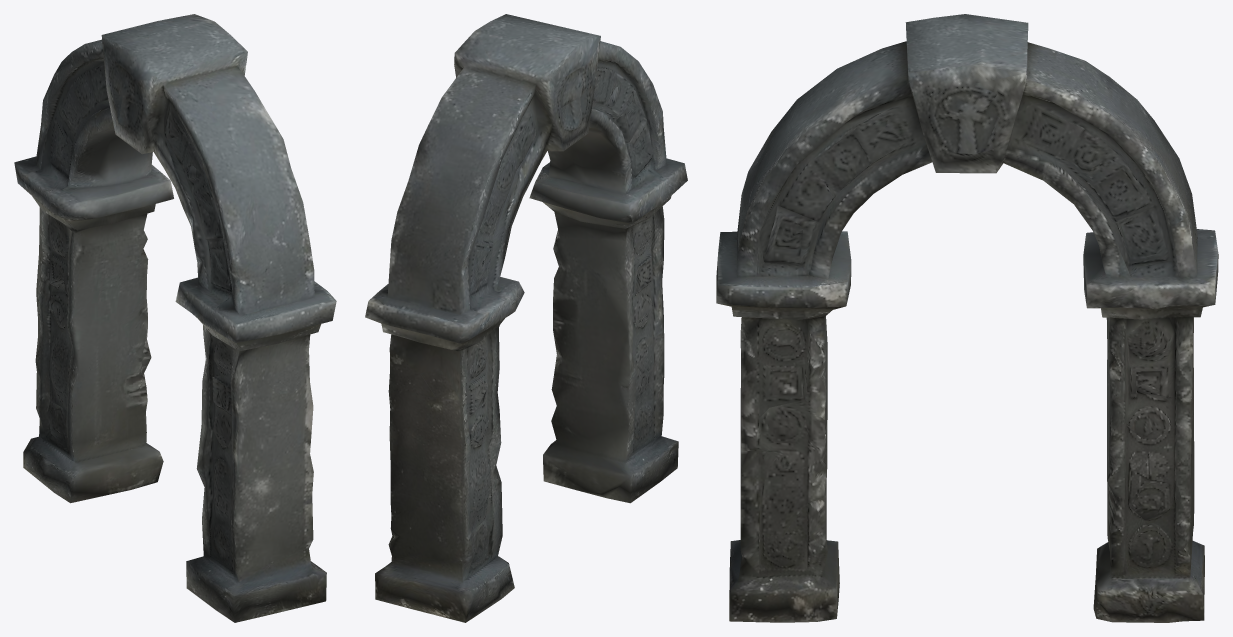
The model's file is stoneArch.glb.
The picture shows the model from 3 angles, left to right: view 1: azimuth 30°, elevation 25°; view 2: azimuth 150°, elevation 25°; view 3: azimuth 270°, elevation 25°; orthographic projection. The views are drawn at different scales.
Parts seen in each view (by area): view 1: tripo_node_50dba59a-393a-4ac7-8278-006c72ccc71e; view 2: tripo_node_50dba59a-393a-4ac7-8278-006c72ccc71e; view 3: tripo_node_50dba59a-393a-4ac7-8278-006c72ccc71e.
Boxes of the visible parts, x1,y1,x2,y2 form: tripo_node_50dba59a-393a-4ac7-8278-006c72ccc71e: (14,14,336,622); tripo_node_50dba59a-393a-4ac7-8278-006c72ccc71e: (365,14,687,622); tripo_node_50dba59a-393a-4ac7-8278-006c72ccc71e: (716,14,1218,622).
Size of the model in its own units: 0.2252 by 0.9792 by 0.7995.
Materials: 1 (1 with a texture image).
